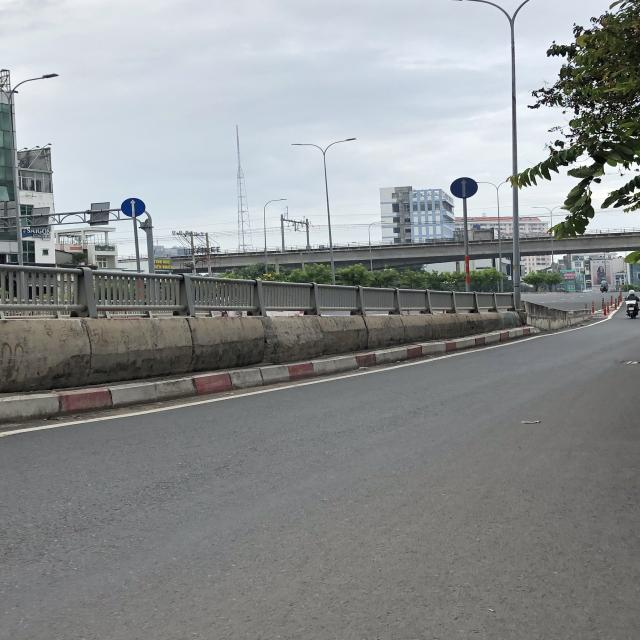Bien bao huong di thang phai theo: (449, 177, 479, 200), (120, 198, 148, 218)
